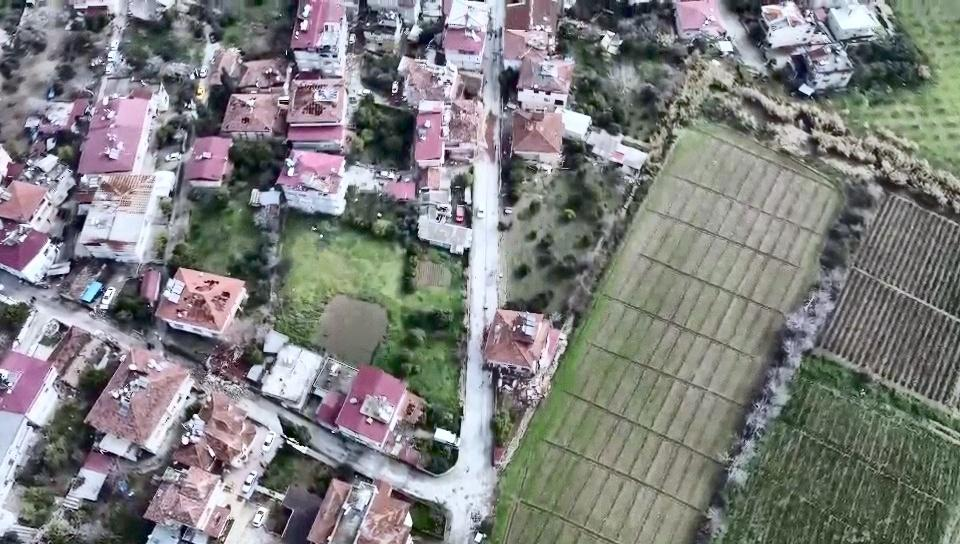kapali: (167, 354, 266, 420), (475, 93, 500, 176)
